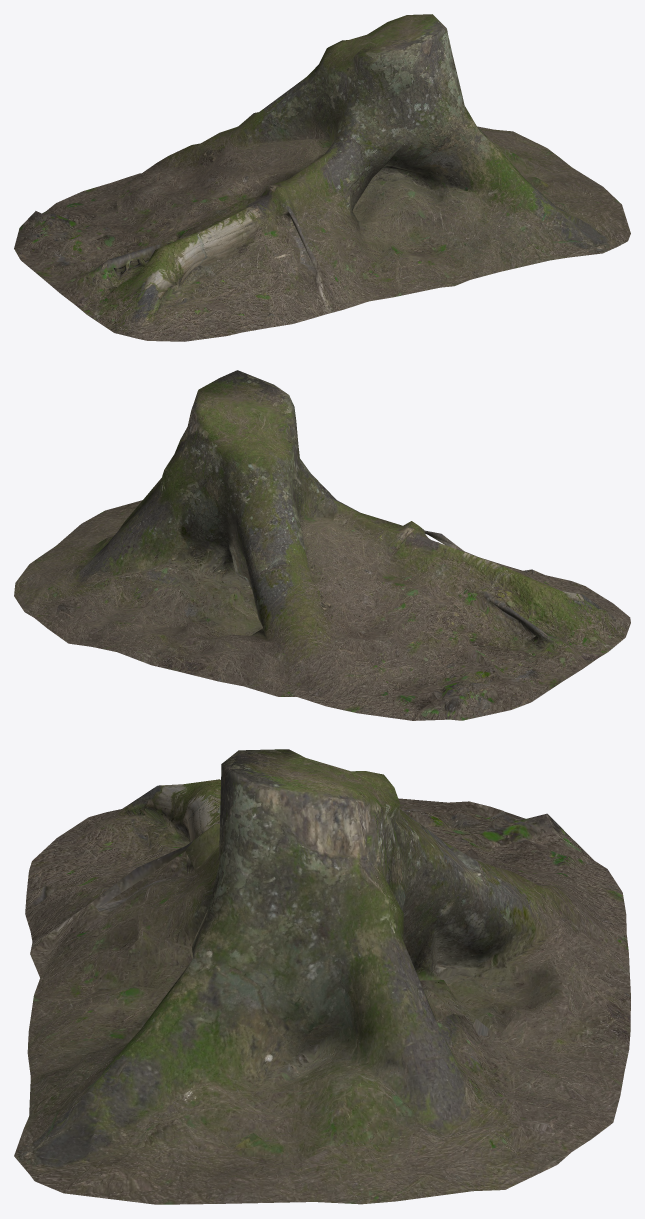
Rendered from PX_Stump_06_LOD4.fbx.
3 renders of one model, top to bottom at view 1: azimuth 30°, elevation 25°; view 2: azimuth 150°, elevation 25°; view 3: azimuth 270°, elevation 25°, orthographic. The views are drawn at different scales.
Parts seen in each view (by area): view 1: PX_Stump_06_LOD4; view 2: PX_Stump_06_LOD4; view 3: PX_Stump_06_LOD4.
Part boxes in pixels (<box>): PX_Stump_06_LOD4: <box>14,14,630,341</box>; PX_Stump_06_LOD4: <box>14,370,630,720</box>; PX_Stump_06_LOD4: <box>14,749,630,1204</box>.
Bounding box in the file's own units: 248 × 89.85 × 160.
